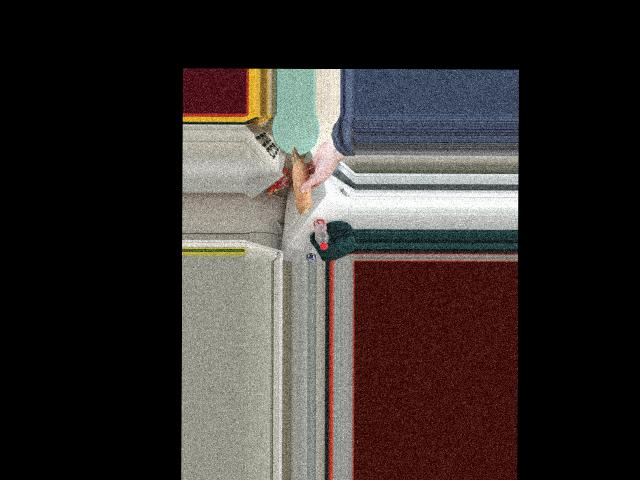sweet_potato: (291, 145, 311, 210)
